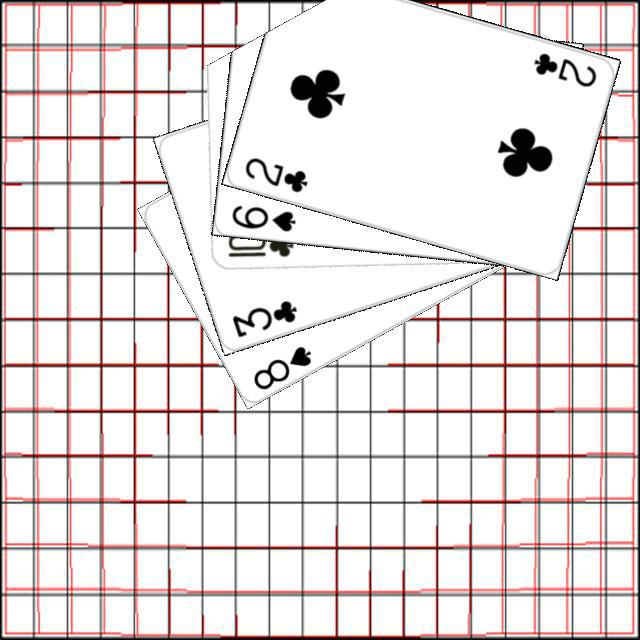10c: (223, 228, 295, 259)
2c: (240, 152, 310, 194), (528, 48, 598, 89)
3c: (227, 295, 299, 339)
6s: (227, 200, 297, 233)
8s: (248, 341, 313, 392)
